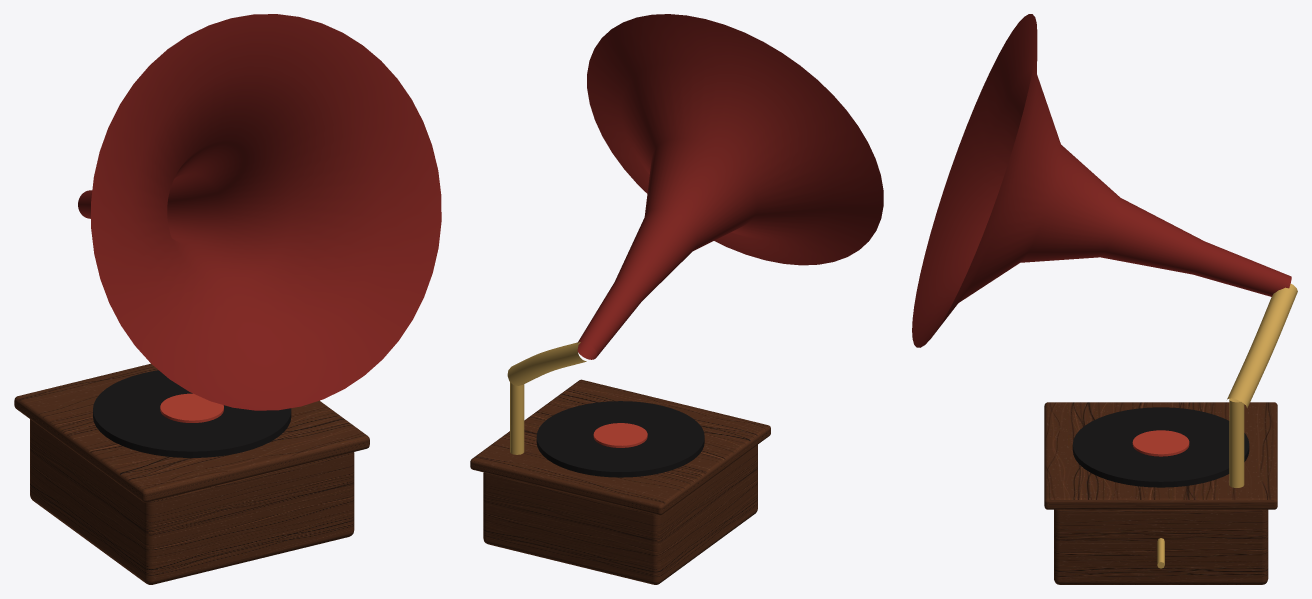
The model's file is vitrola-corneta-bordo.glb.
3 views of the same model, side by side, from view 1: azimuth 30°, elevation 25°; view 2: azimuth 150°, elevation 25°; view 3: azimuth 270°, elevation 25° (orthographic). The views are drawn at different scales.
Parts seen in each view (by area): view 1: gramophone; view 2: gramophone; view 3: gramophone.
Part boxes in pixels (bbox=[...]): gramophone: bbox=[14, 14, 441, 584]; gramophone: bbox=[470, 14, 883, 584]; gramophone: bbox=[912, 14, 1297, 584].
Bounding box in the file's own units: 0.59 × 0.8697 × 0.6119.
Materials: 6 (1 with a texture image).
